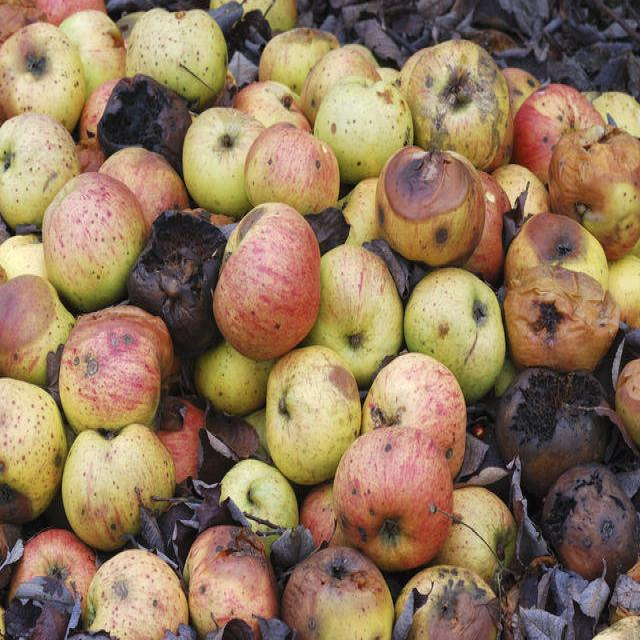food_waste: (22, 48, 613, 575)
